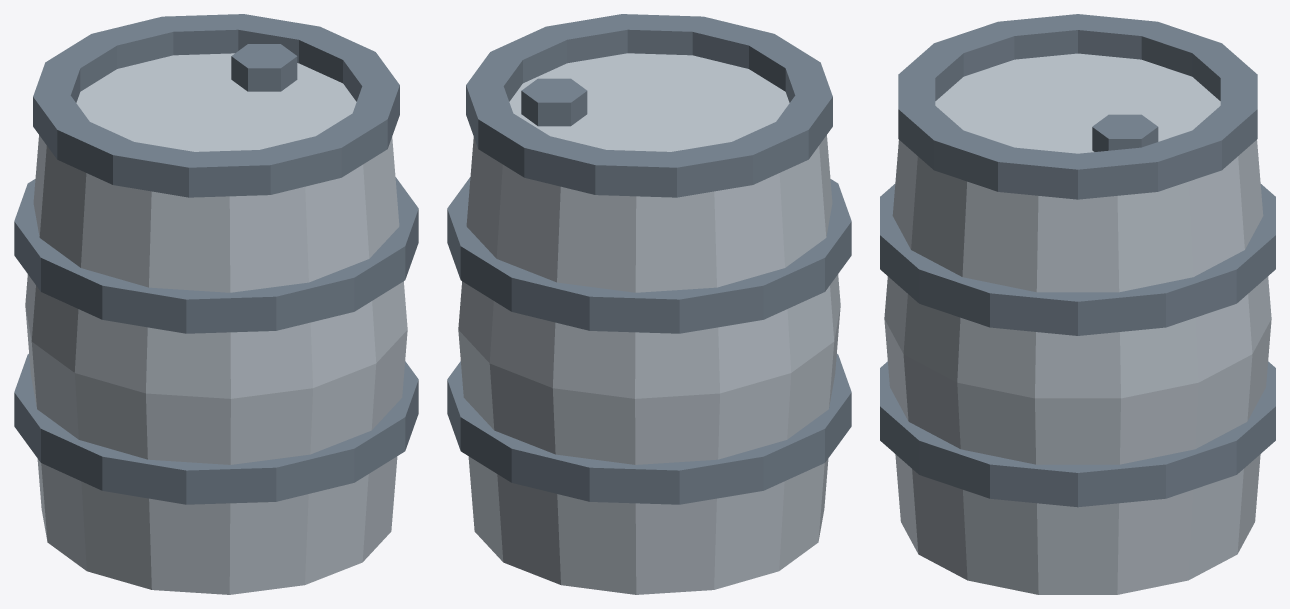
The model's file is item_barrel_chrome.fbx.
3 views of the same model, side by side, from view 1: azimuth 30°, elevation 25°; view 2: azimuth 150°, elevation 25°; view 3: azimuth 270°, elevation 25° (orthographic).
Visible parts, largest first — view 1: item_barrel_chrome; view 2: item_barrel_chrome; view 3: item_barrel_chrome.
Boxes of the visible parts, x1,y1,x2,y2 form: item_barrel_chrome: [14, 14, 418, 594]; item_barrel_chrome: [447, 14, 851, 594]; item_barrel_chrome: [880, 14, 1275, 594].
Size of the model in its own units: 1.72 by 2.01 by 1.68.
